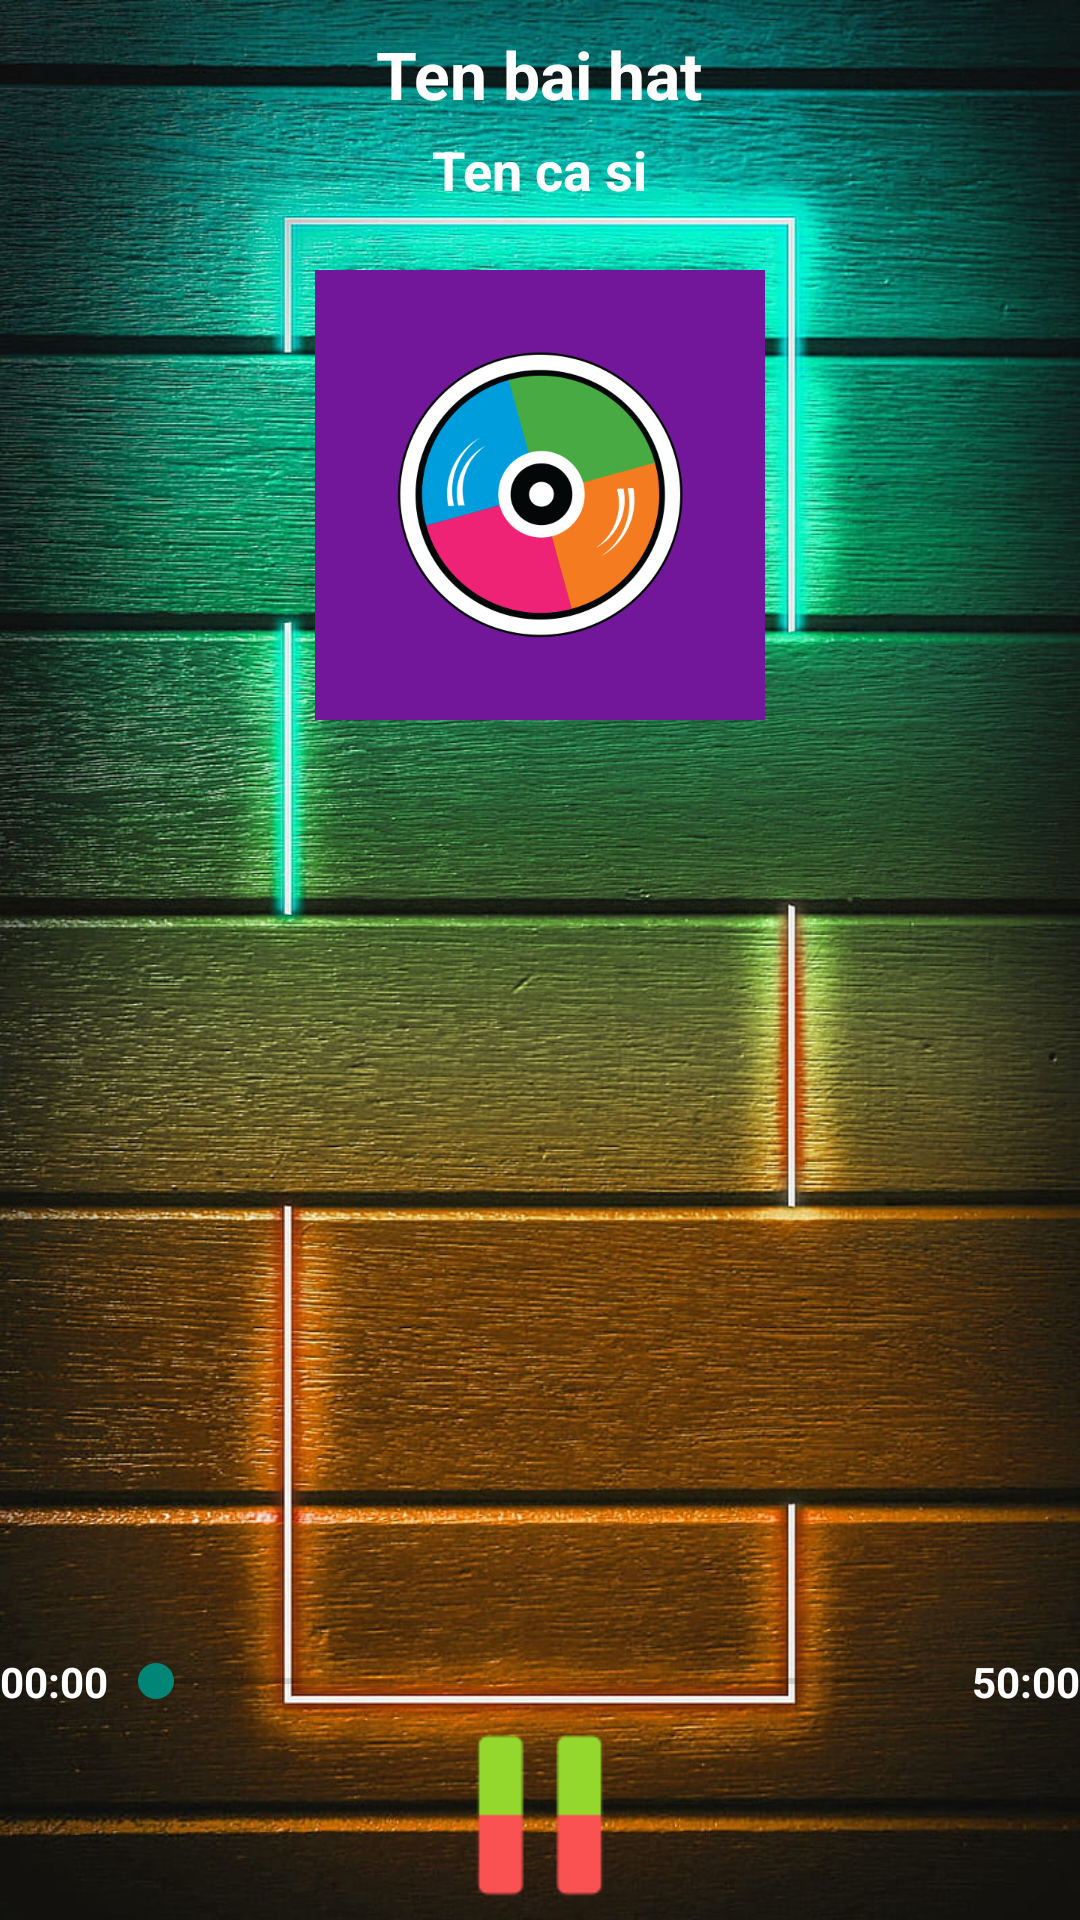

Icon click points for this 1080x1920 phone screenshot, format point (x, y):
pause: point (540, 1815)
